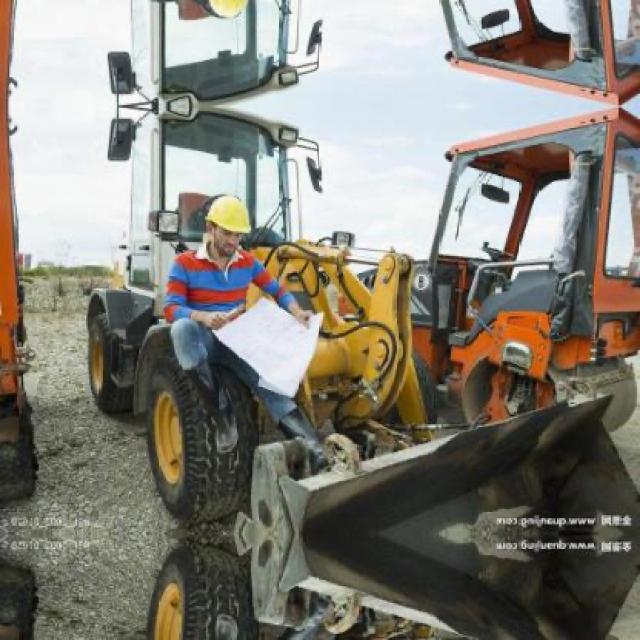helmet: (200, 190, 254, 259), (200, 0, 255, 25)
